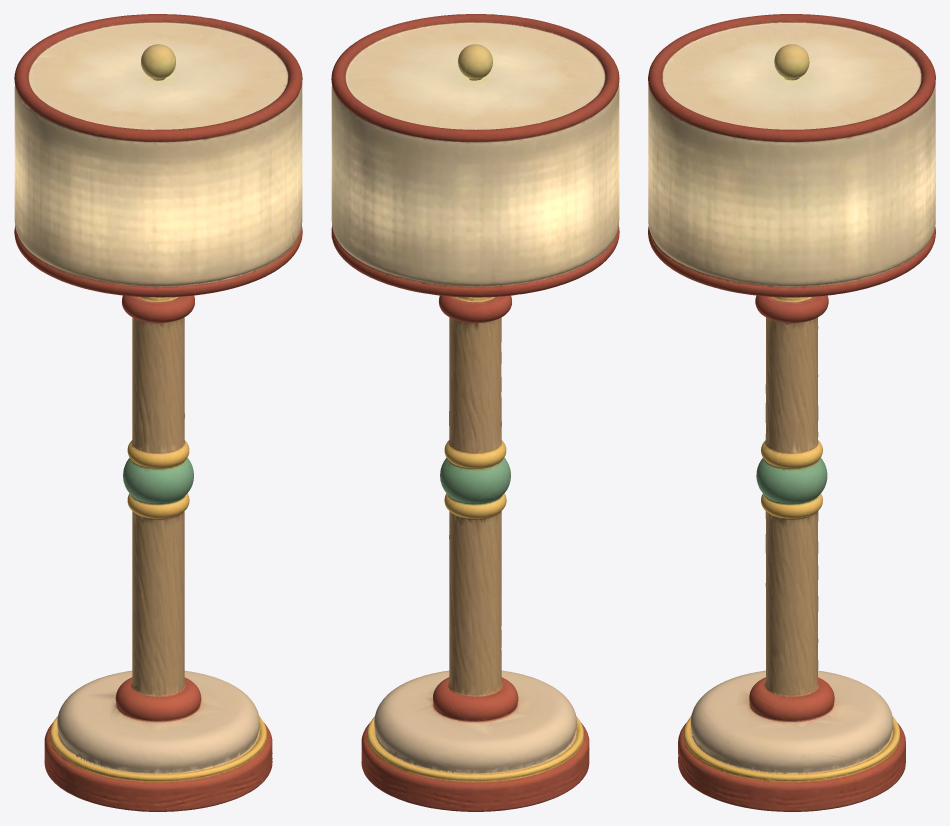
File: Meshy_AI_model.glb
The picture shows the model from 3 angles, left to right: view 1: azimuth 30°, elevation 25°; view 2: azimuth 150°, elevation 25°; view 3: azimuth 270°, elevation 25°; orthographic projection.
Visible parts, largest first — view 1: mesh_node; view 2: mesh_node; view 3: mesh_node.
Boxes of the visible parts, bbox=[...] form: mesh_node: bbox=[14, 14, 302, 811]; mesh_node: bbox=[331, 14, 619, 811]; mesh_node: bbox=[648, 14, 935, 811].
Bounding box in the file's own units: 0.6899 × 1.9 × 0.6899.
Materials: 1 (1 with a texture image).
